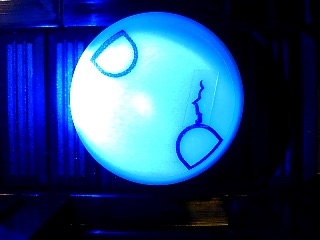CRACK: (70, 11, 245, 187)
